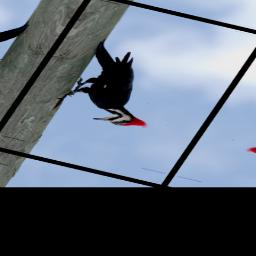Woodpecker: (49, 38, 193, 132)
